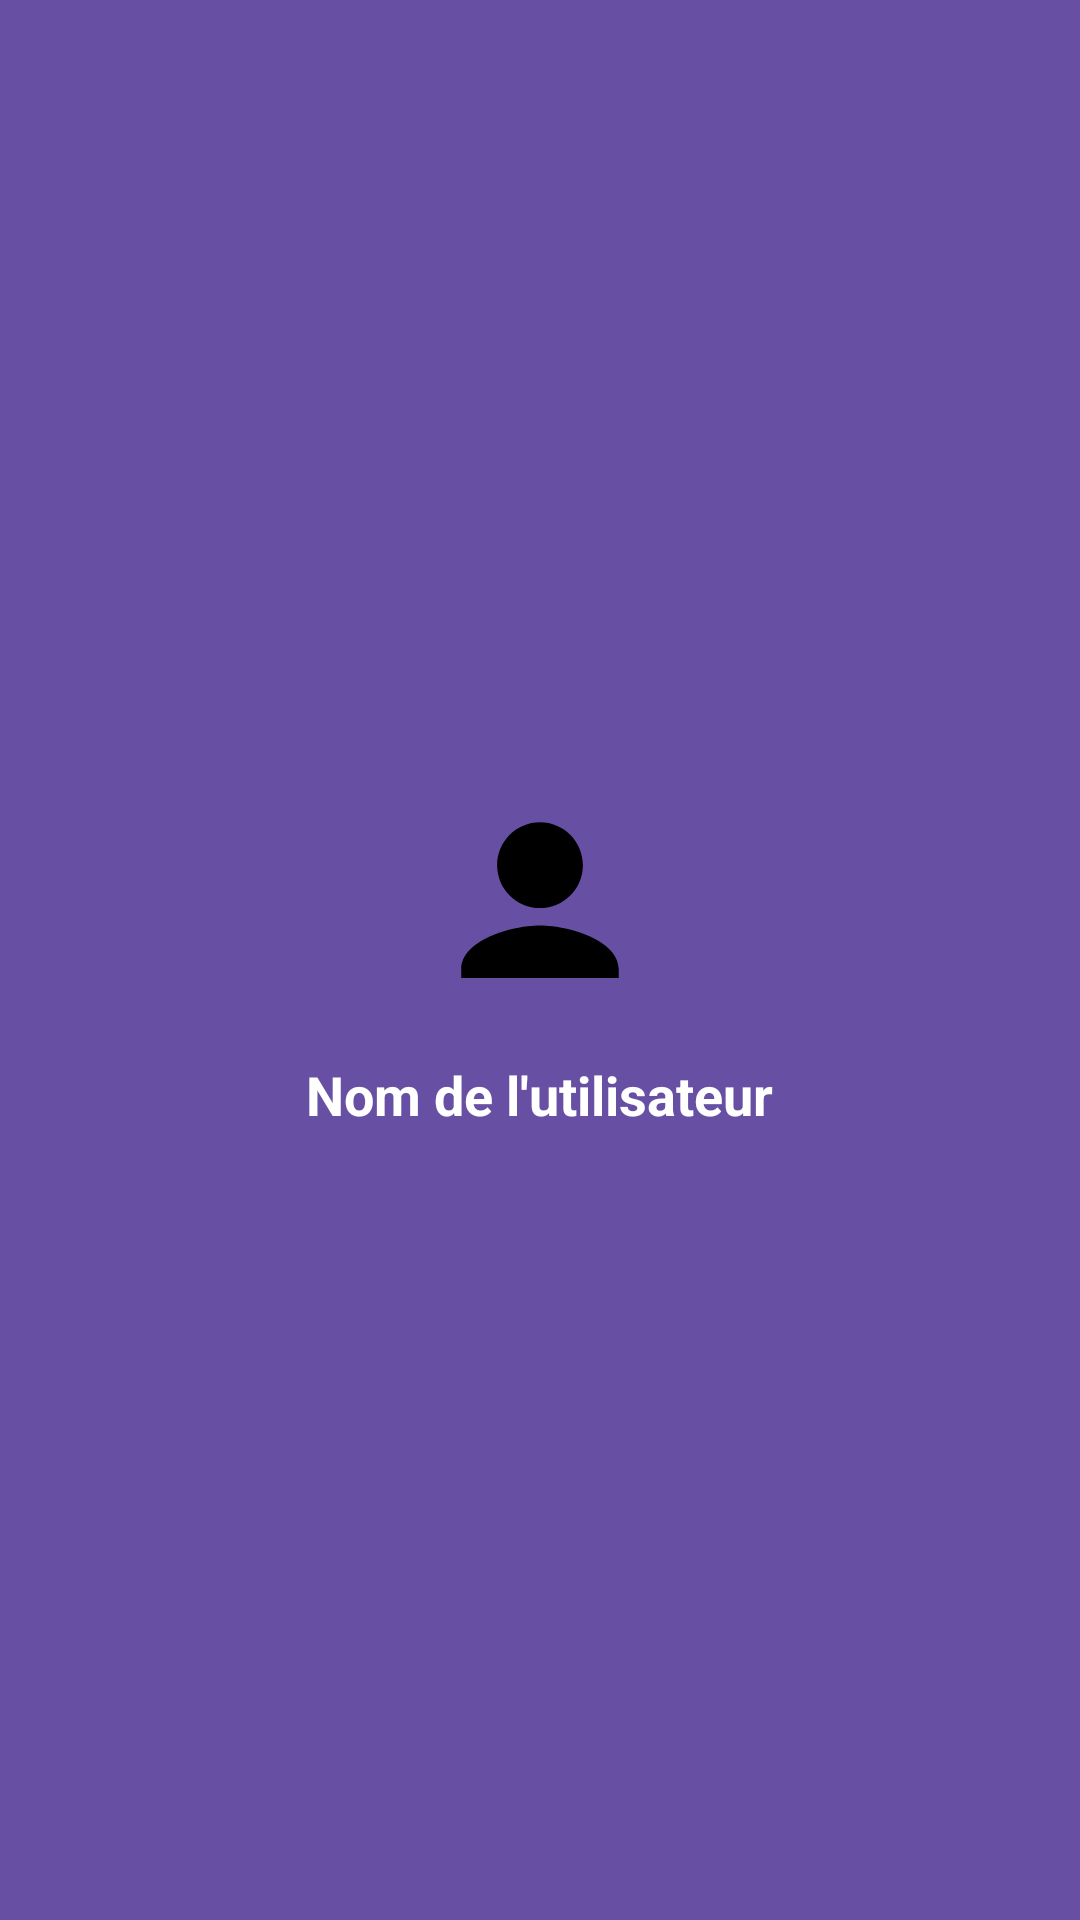

Icon click points for this 1080px x 1920px phone screenshot, format (x=x, y=y):
user: (x=540, y=900)
